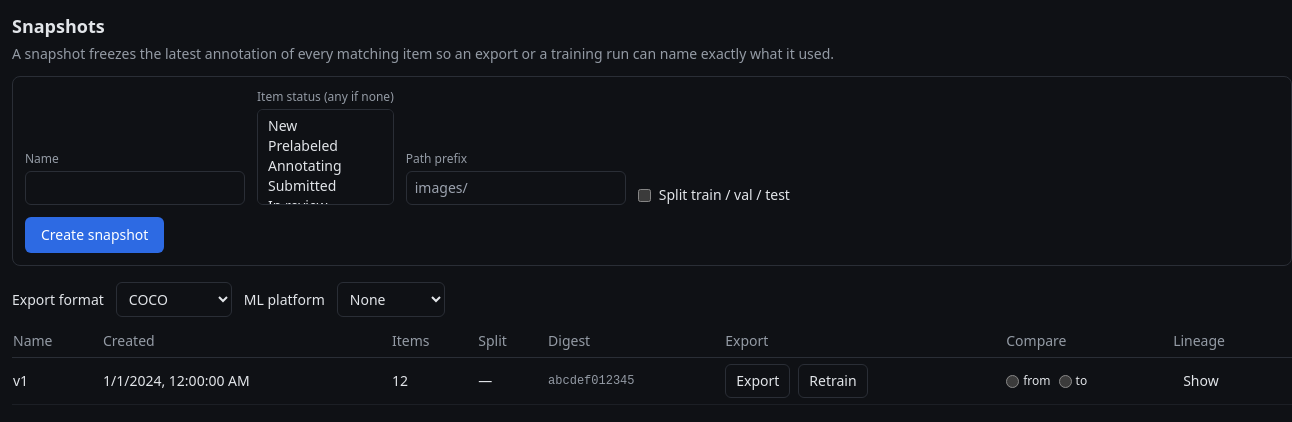
Test case: SnapshotsPanel › starts the Databricks job when the chosen platform has one
Select "Databricks" in the dropdown labelled "ML platform" at (391, 300), box 337,282 -> 445,317
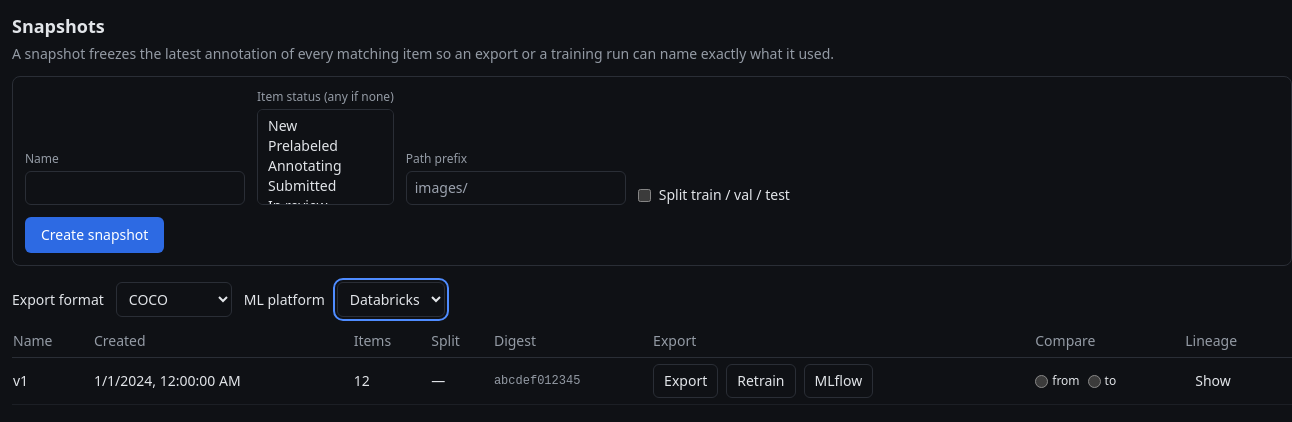
Click the button "Retrain" at (761, 381), box 726,364 -> 796,398
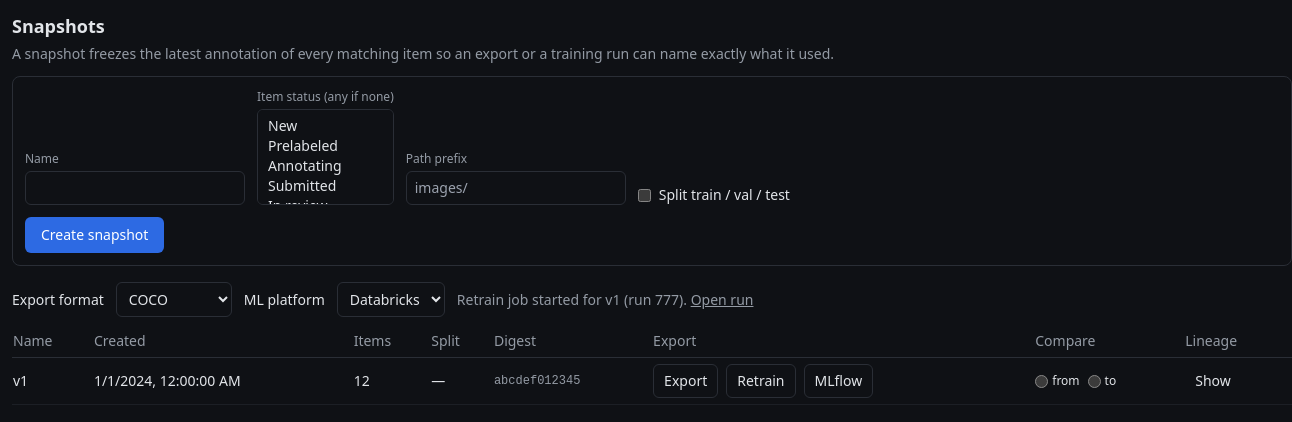
Expected: the message shows "Retrain job started for v1 (run 777).", 457,290 -> 687,308
